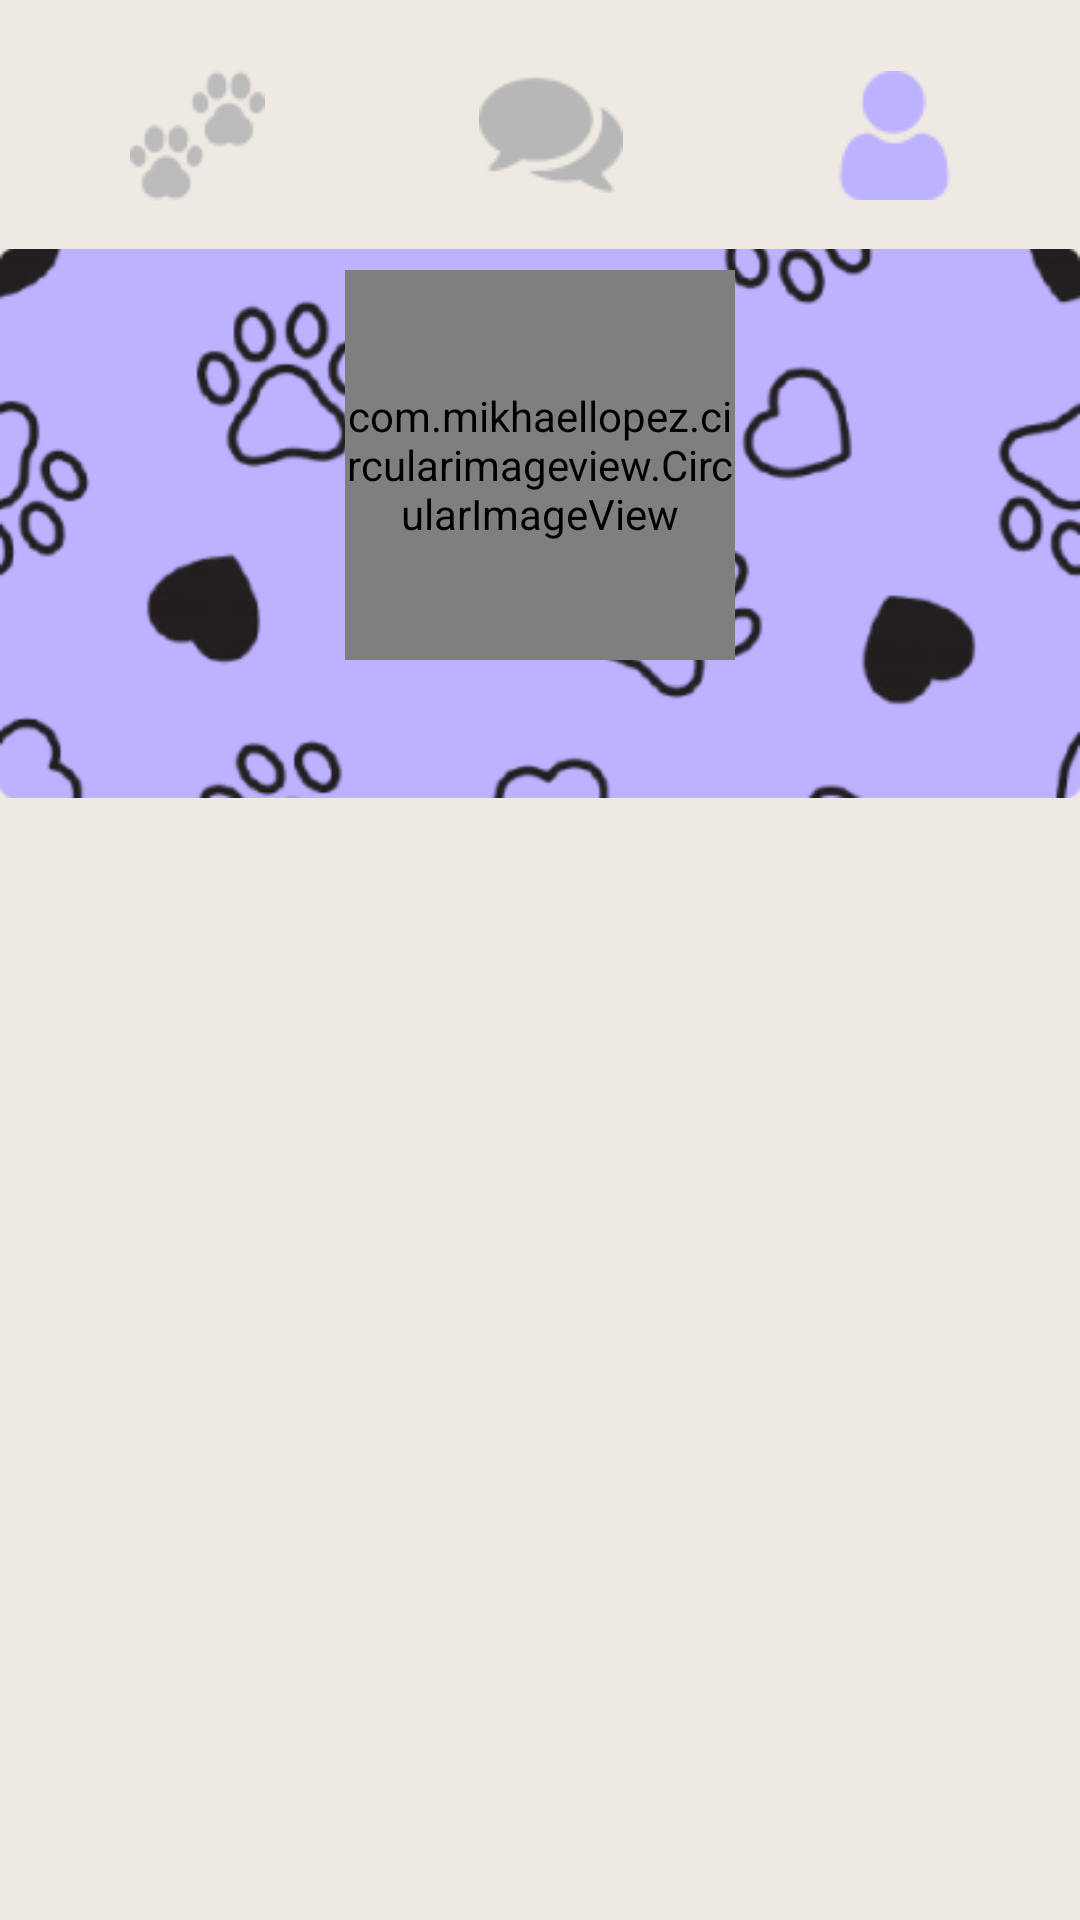

Icon click points for this 1080×1920 phone screenshot, format [x,y]:
iconechatnormal: [551,135]
iconeperfilativado: [894,135]
iconepetchnormal: [197,135]
